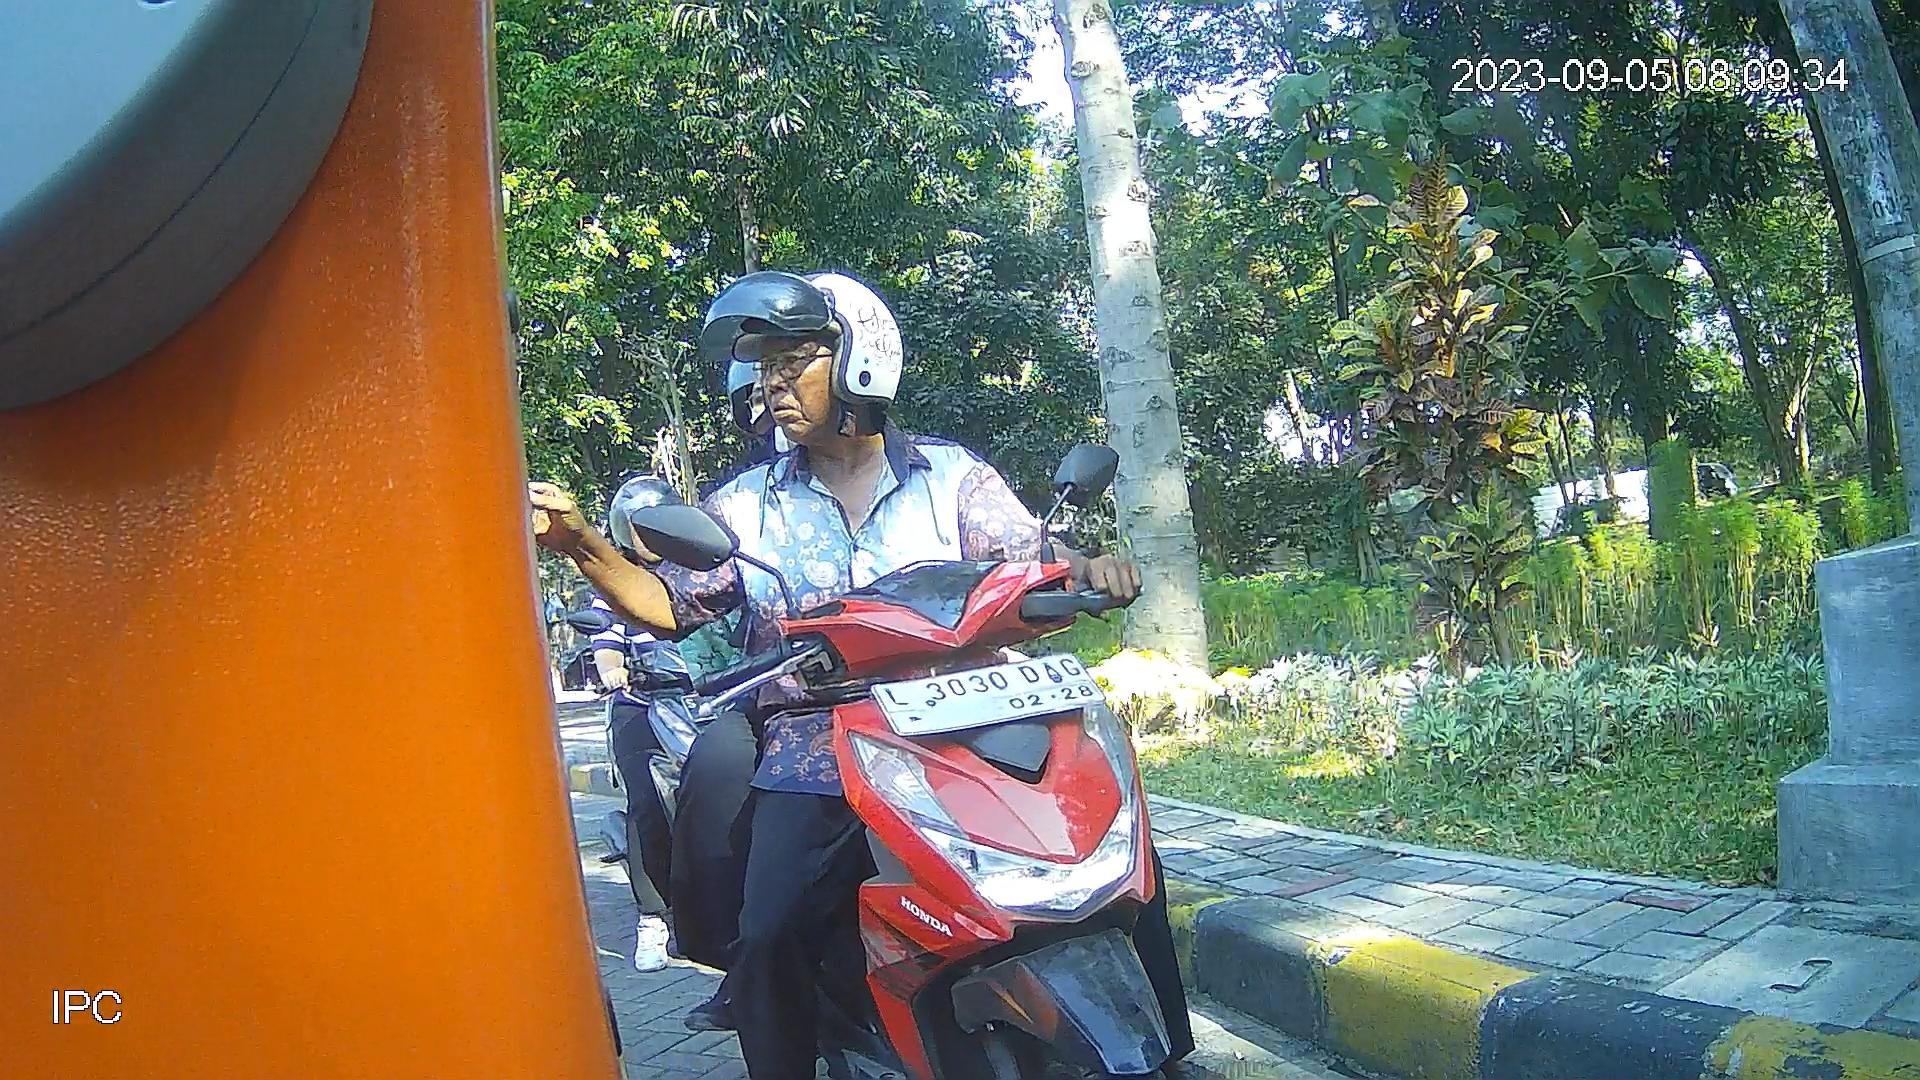plat: (865, 649, 1109, 738)
